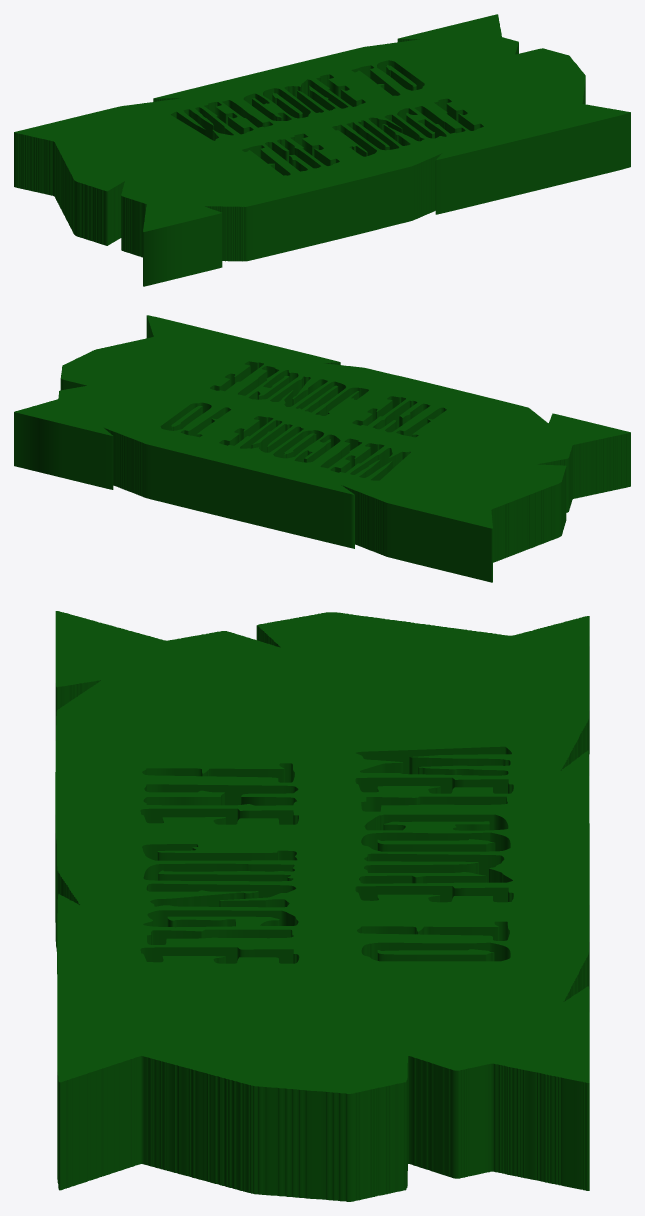
File: Papan Welcome.fbx
3 views of the same model, one above another, from view 1: azimuth 30°, elevation 25°; view 2: azimuth 150°, elevation 25°; view 3: azimuth 270°, elevation 25° (orthographic). The views are drawn at different scales.
Visible parts, largest first — view 1: path1; view 2: path1; view 3: path1.
Boxes of the visible parts, x1=… form: path1: x1=14, y1=14, x2=630, y2=286; path1: x1=14, y1=315, x2=630, y2=582; path1: x1=55, y1=611, x2=589, y2=1201.
Size of the model in its own units: 9.59 by 1 by 4.48.
